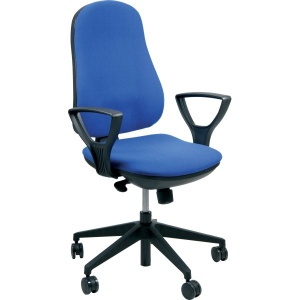chair: (69, 1, 231, 300)
